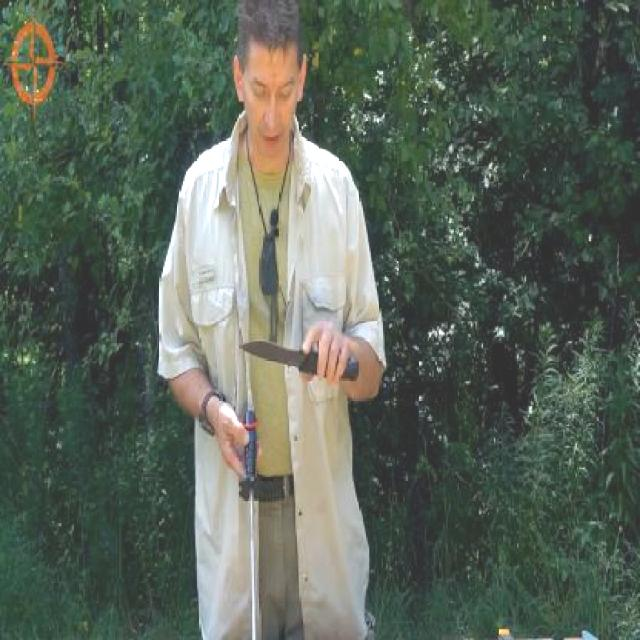knife: (237, 316, 361, 386)
